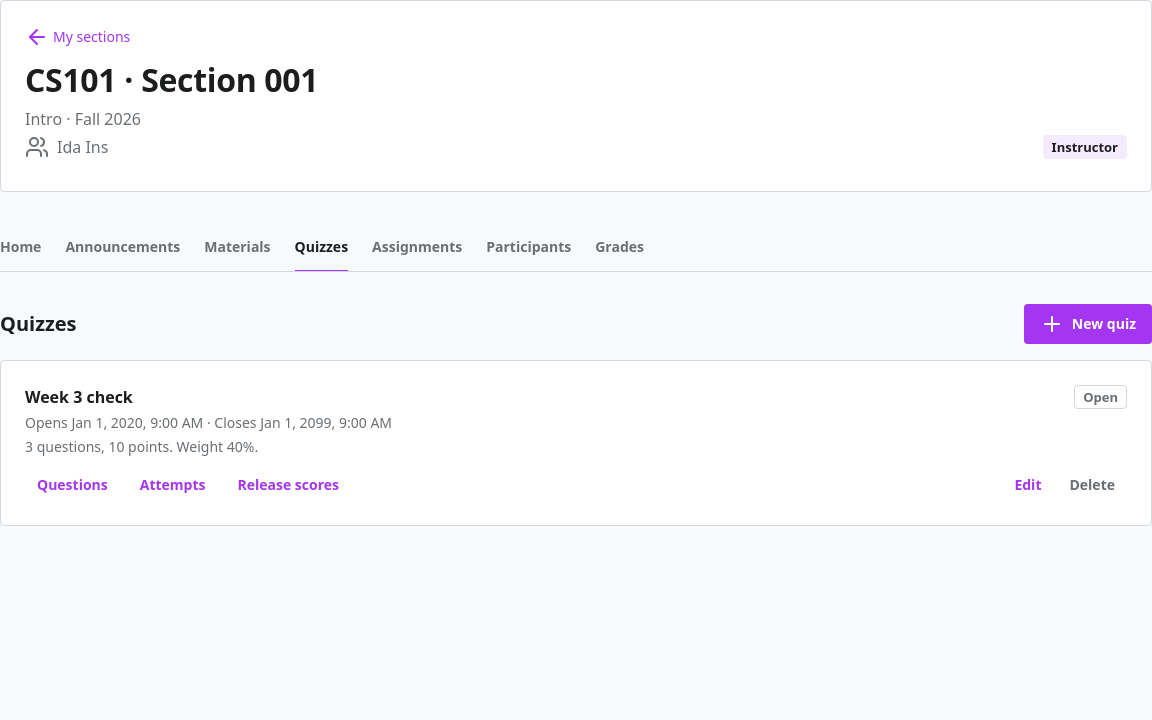
Test: delete falls back to neutral text when the attempts count fails
Click the button with aria-label "Delete Week 3 check": (1092, 485) 1058,469 -> 1127,501
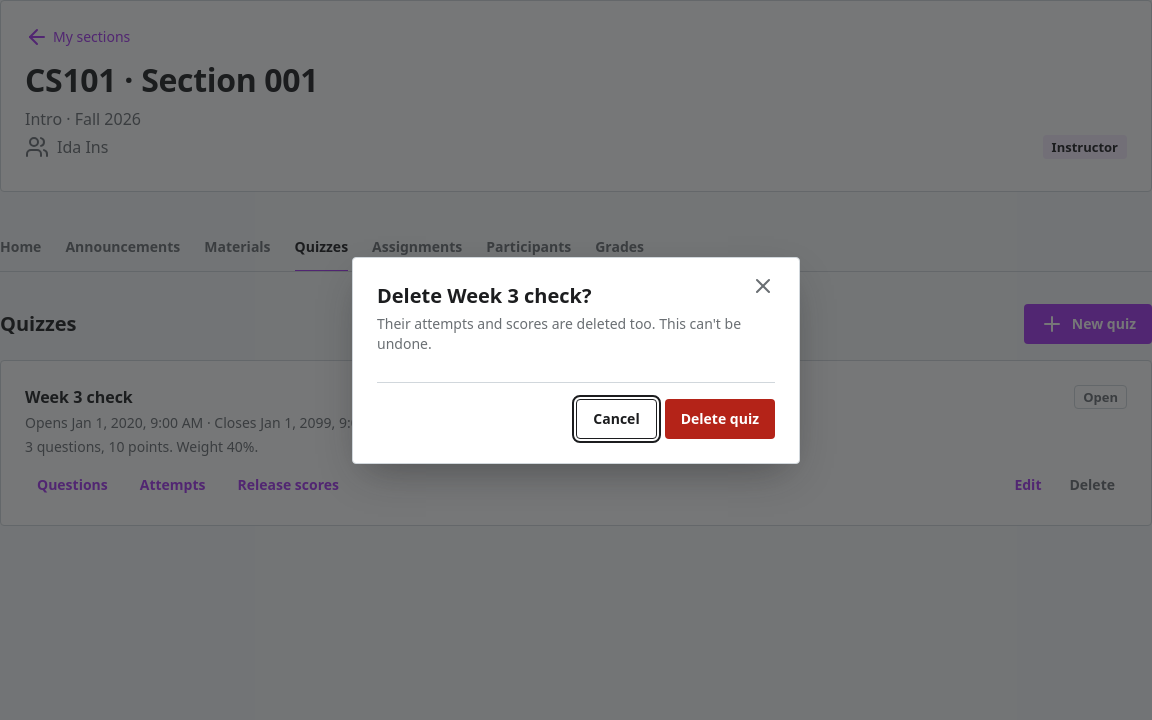
Expected: the text "Their attempts and scores are deleted too. This can't be undone." is shown, 377,314 -> 775,354
